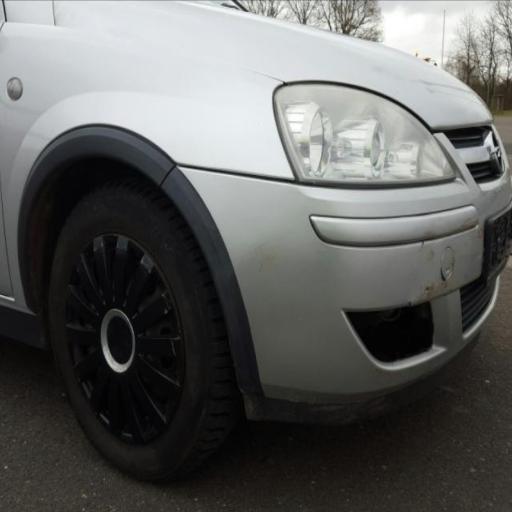rust: (402, 269, 462, 305), (414, 227, 440, 260), (464, 212, 488, 244)
